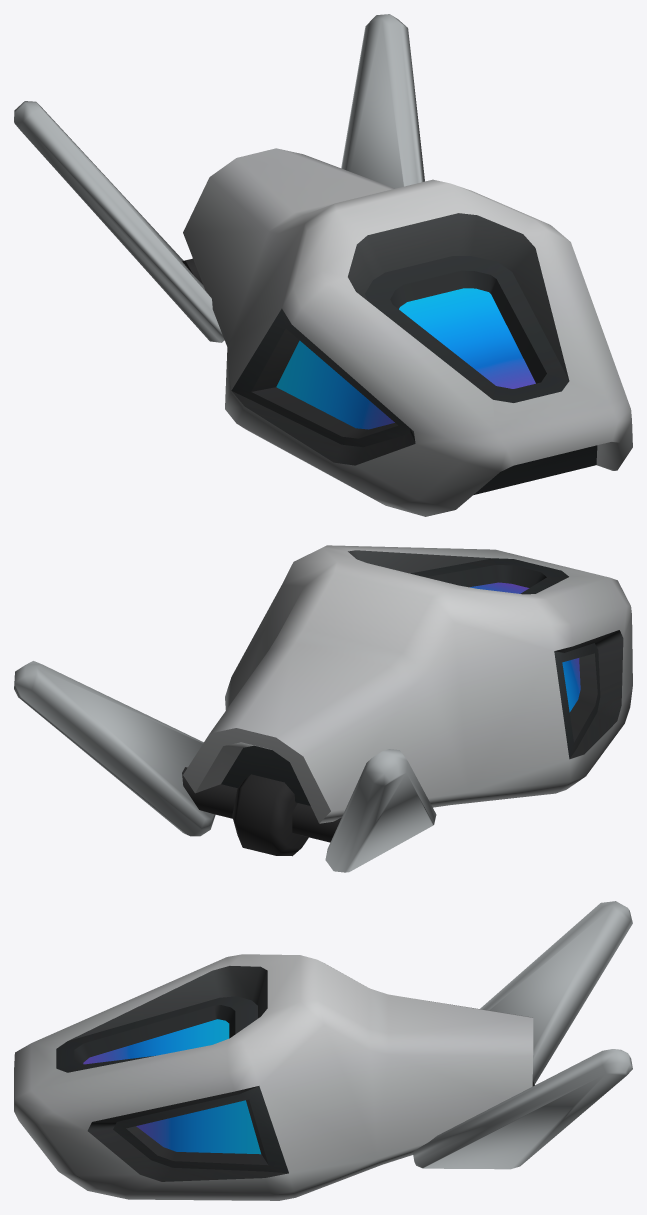
File: Drone_003.fbx
3 renders of one model, top to bottom at view 1: azimuth 30°, elevation 25°; view 2: azimuth 150°, elevation 25°; view 3: azimuth 270°, elevation 25°, orthographic. The views are drawn at different scales.
Visible parts, largest first — view 1: Drone_003; view 2: Drone_003; view 3: Drone_003.
Part boxes in pixels (x1=…): Drone_003: x1=14, y1=14, x2=632, y2=516; Drone_003: x1=14, y1=545, x2=632, y2=872; Drone_003: x1=14, y1=901, x2=632, y2=1200.
Size of the model in its own units: 46.5 by 76.13 by 24.13.
